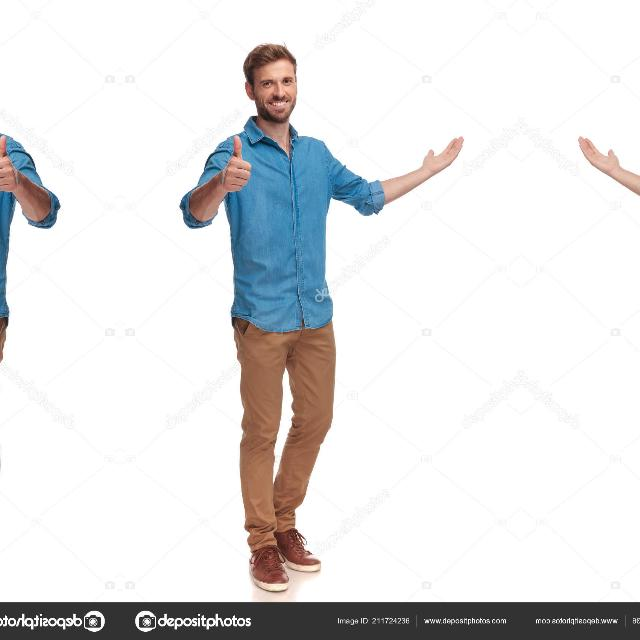person: (172, 24, 438, 576), (0, 24, 66, 575), (603, 24, 640, 575)
